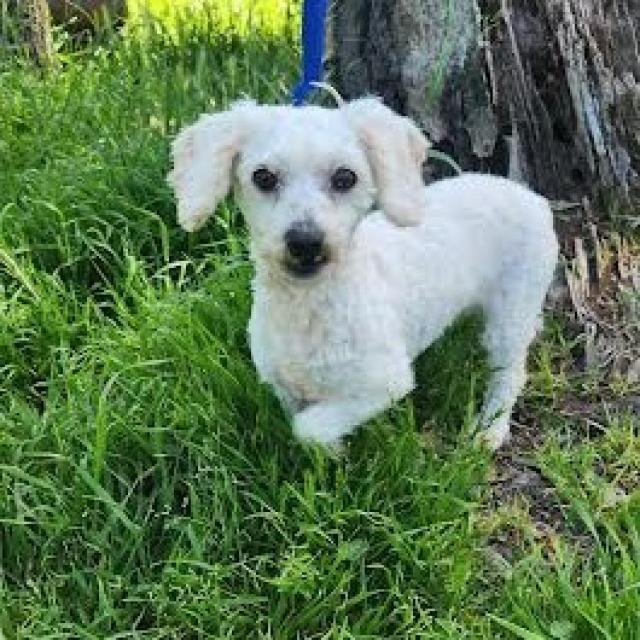Poodle_dog: (158, 88, 451, 310)
